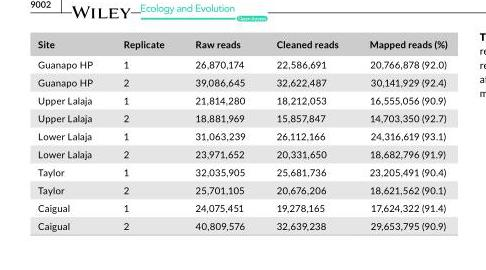table: (37, 37, 446, 231)
table column: (260, 37, 353, 231), (353, 37, 446, 231), (179, 37, 260, 231), (107, 37, 179, 231), (37, 37, 107, 231)
table column header: (37, 37, 446, 53)
table row: (37, 53, 446, 72), (37, 72, 446, 90), (37, 90, 446, 108), (37, 108, 446, 126), (37, 126, 446, 144), (37, 144, 446, 162), (37, 162, 446, 180), (37, 180, 446, 198), (37, 198, 446, 216), (37, 37, 446, 53), (37, 216, 446, 231)
